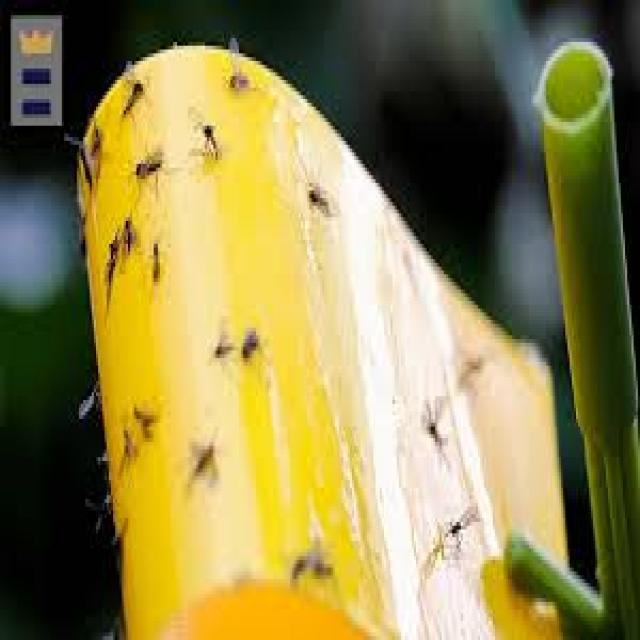fruit fly: (435, 483, 482, 568), (173, 423, 224, 499), (111, 46, 149, 130), (62, 122, 100, 206), (121, 137, 172, 198), (213, 27, 256, 99), (68, 366, 113, 430), (297, 518, 337, 587), (186, 99, 224, 168), (416, 381, 448, 461), (75, 480, 126, 530), (299, 164, 337, 228), (234, 309, 266, 381), (200, 320, 239, 373), (109, 202, 141, 263), (138, 224, 168, 286), (106, 412, 138, 468), (124, 396, 162, 442)
